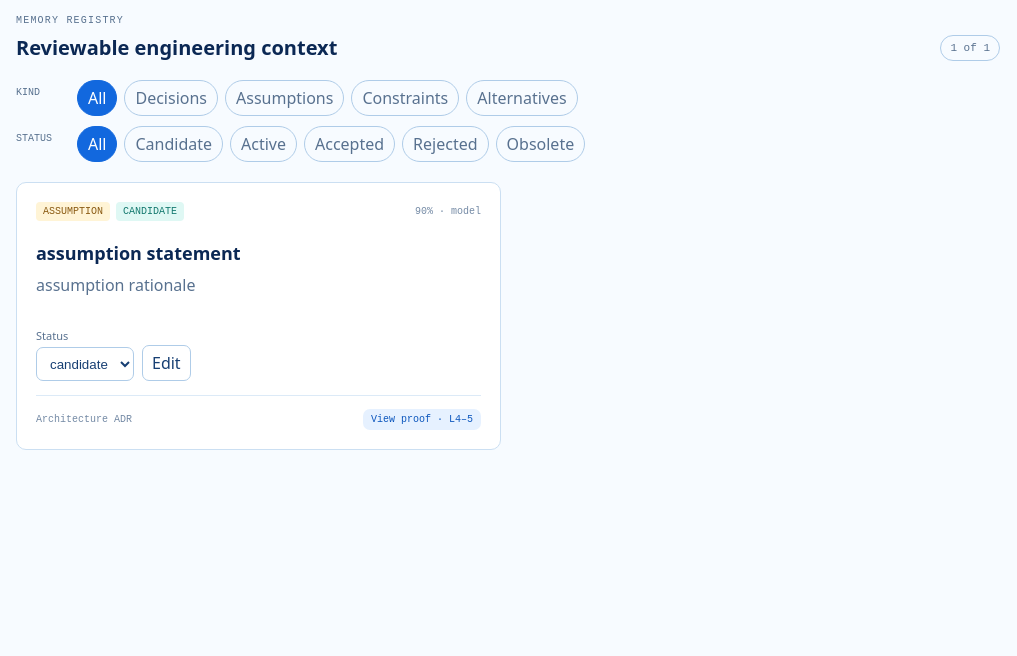
Test: MemoryView › keeps the correction form and reports PATCH failures inline
Click the button with aria-label "Edit assumption: assumption statement" at (166, 363), box x1=142 y1=345 x2=191 y2=381
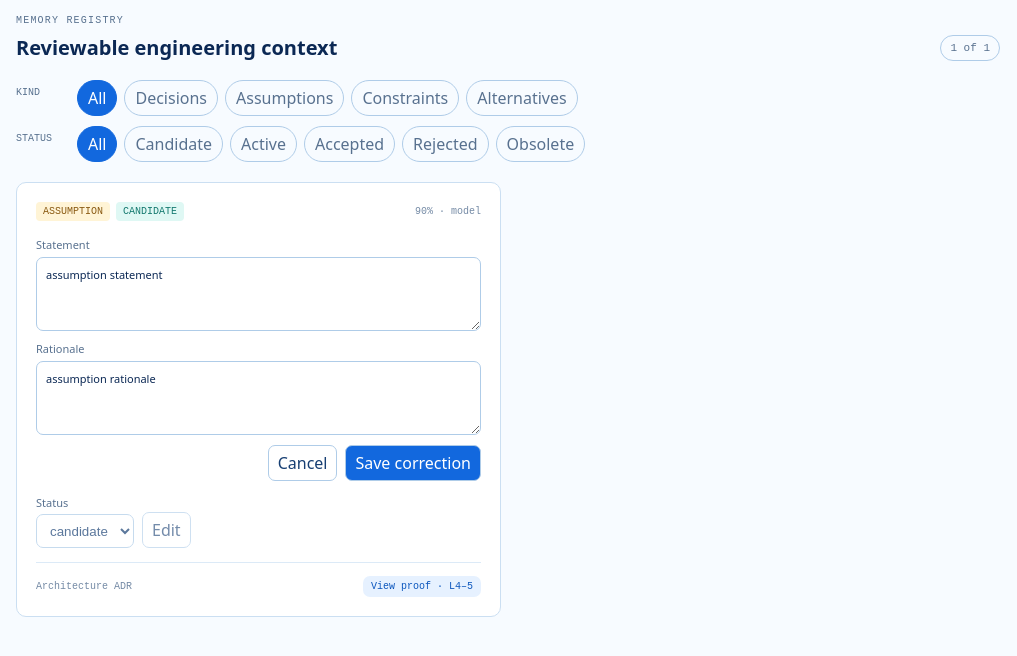
Replace the text in the text box labelled "Statement" with "Uncommitted correction" at (258, 294), box x1=36 y1=257 x2=481 y2=331
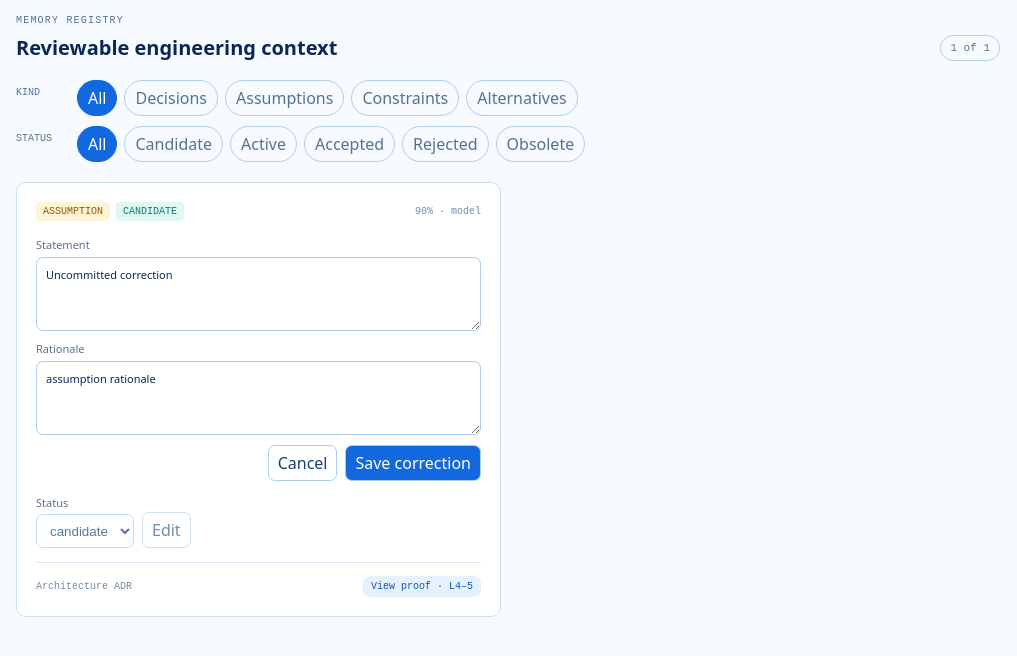
Submit the form named "Edit assumption memory", box x1=36 y1=237 x2=481 y2=481
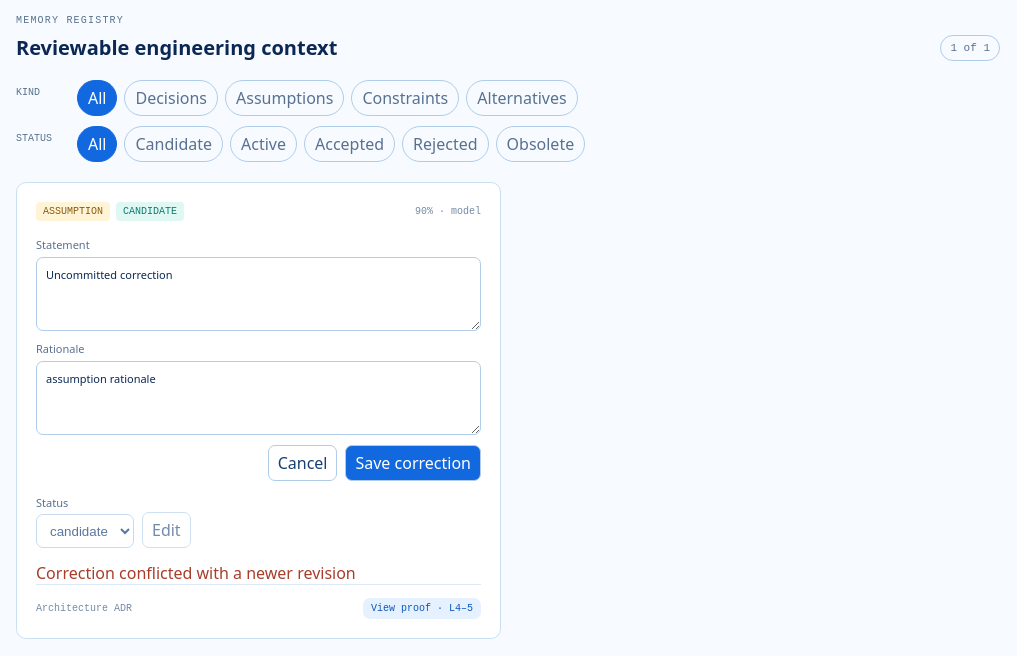
Expected: the form named "Edit assumption memory" is shown, x1=36 y1=237 x2=481 y2=481
Expected: the message reads "Correction conflicted with a newer revision", x1=36 y1=562 x2=356 y2=584
